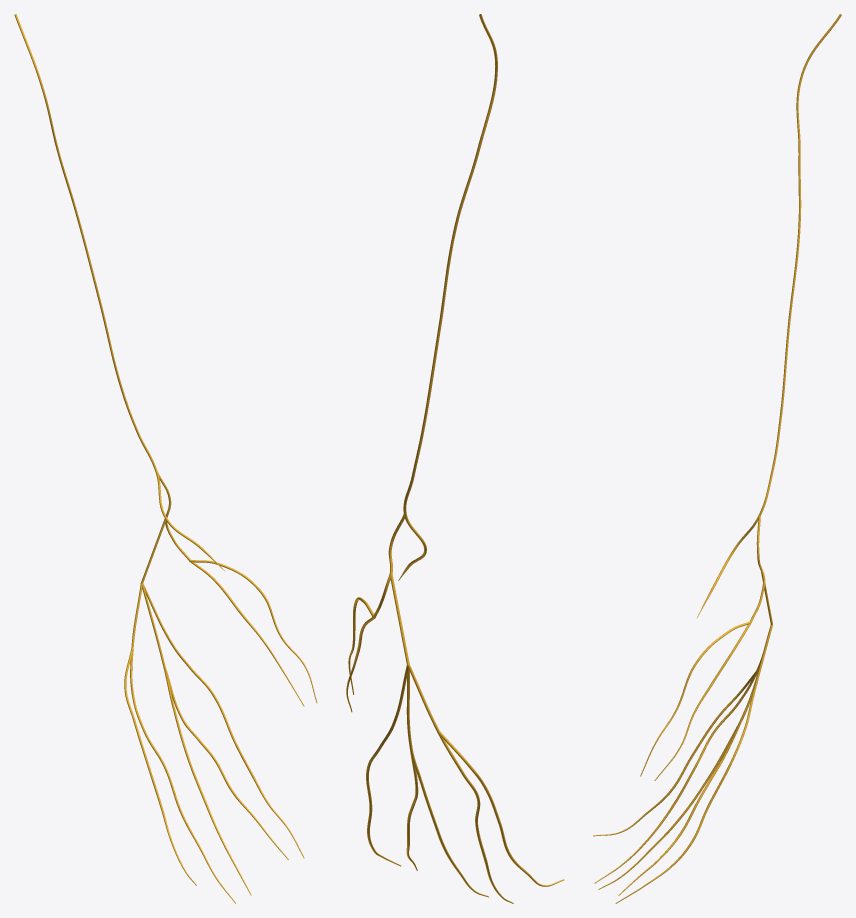
The model's file is nervoso-superficial-branch-of-radial-nerve-l.glb.
3 views of the same model, side by side, from view 1: azimuth 30°, elevation 25°; view 2: azimuth 150°, elevation 25°; view 3: azimuth 270°, elevation 25° (orthographic). The views are drawn at different scales.
Visible parts, largest first — view 1: Dorsal digital branches of radial nerve.l, Superficial branch of radial nerve.l; view 2: Dorsal digital branches of radial nerve.l, Superficial branch of radial nerve.l; view 3: Dorsal digital branches of radial nerve.l, Superficial branch of radial nerve.l.
Part boxes in pixels (x1=…): Dorsal digital branches of radial nerve.l: x1=124, y1=560, x2=317, y2=903; Superficial branch of radial nerve.l: x1=14, y1=14, x2=224, y2=583; Dorsal digital branches of radial nerve.l: x1=346, y1=597, x2=564, y2=903; Superficial branch of radial nerve.l: x1=373, y1=14, x2=497, y2=664; Dorsal digital branches of radial nerve.l: x1=593, y1=621, x2=772, y2=903; Superficial branch of radial nerve.l: x1=696, y1=14, x2=841, y2=624.
Size of the model in its own units: 0.1005 by 0.3901 by 0.107.
